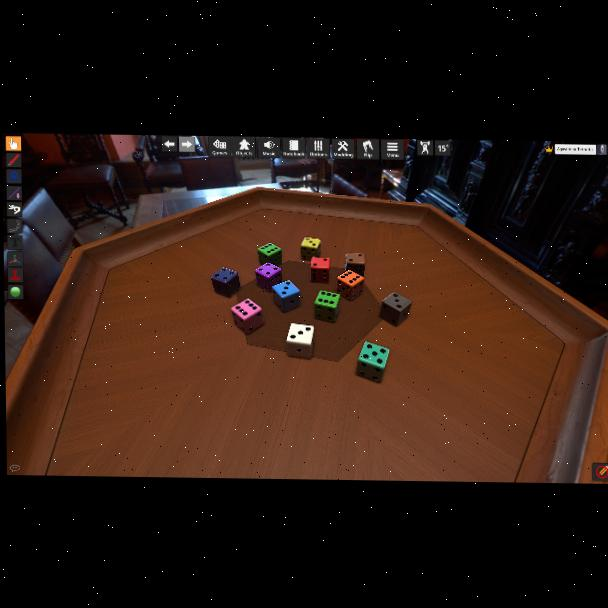d6: (356, 342, 391, 383), (231, 298, 264, 335), (380, 293, 411, 327), (272, 279, 301, 313), (286, 324, 314, 359), (210, 268, 240, 299), (336, 269, 364, 301), (314, 290, 341, 322), (255, 262, 283, 292), (257, 242, 281, 266), (344, 254, 366, 278), (300, 237, 321, 262), (310, 258, 330, 284)
